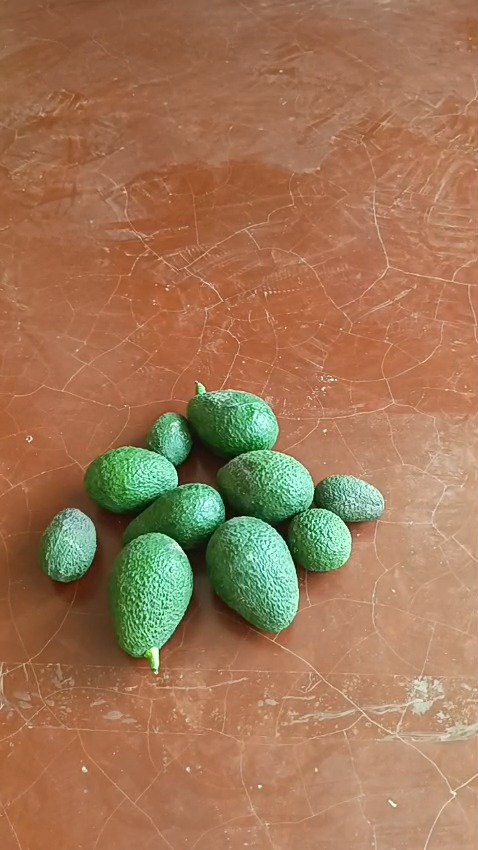Primera: (106, 531, 194, 658), (205, 516, 298, 632), (215, 449, 314, 523), (187, 389, 278, 458)
Segunda: (124, 482, 226, 550), (83, 446, 178, 513)
Tercera: (38, 507, 97, 582), (286, 508, 352, 572), (312, 475, 385, 523), (146, 411, 194, 467)
